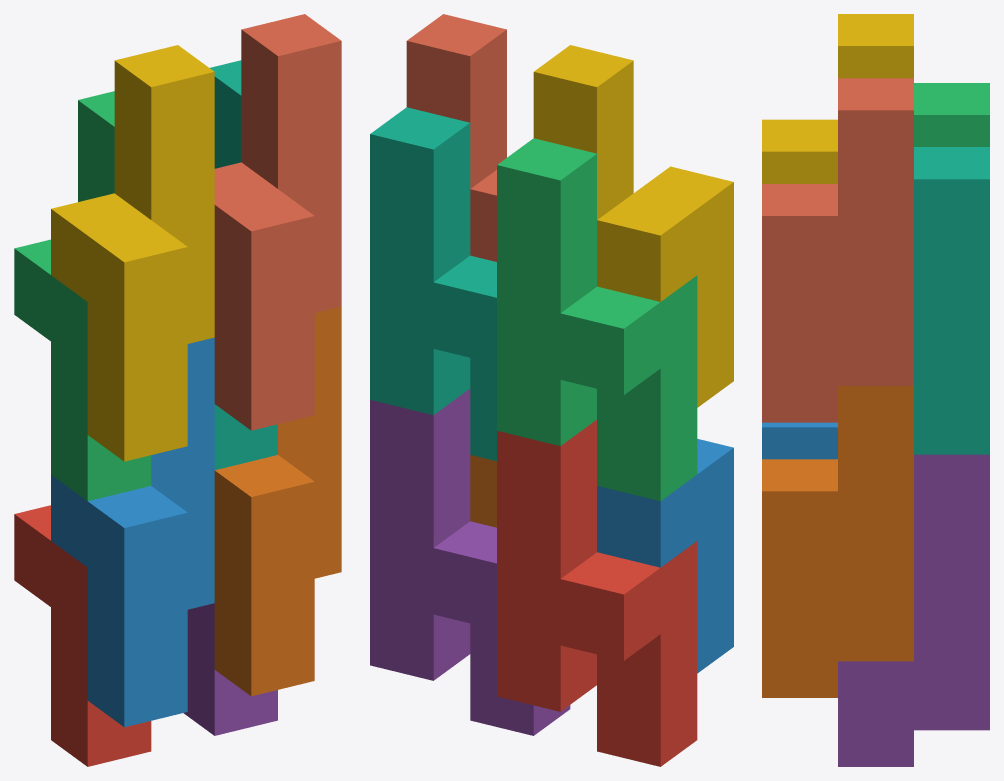
Rendered from tiling.obj.
3 views of the same model, side by side, from view 1: azimuth 30°, elevation 25°; view 2: azimuth 150°, elevation 25°; view 3: azimuth 270°, elevation 25° (orthographic). The views are drawn at different scales.
Parts seen in each view (by area): view 1: copy_1_domain_4, copy_1_domain_8, copy_1_domain_2, copy_1_domain_6, copy_1_domain_3, copy_1_domain_1, copy_1_domain_5, copy_1_domain_7; view 2: copy_1_domain_3, copy_1_domain_1, copy_1_domain_7, copy_1_domain_5, copy_1_domain_4, copy_1_domain_2, copy_1_domain_8, copy_1_domain_6; view 3: copy_1_domain_8, copy_1_domain_6, copy_1_domain_5, copy_1_domain_7, copy_1_domain_4, copy_1_domain_3, copy_1_domain_2.
Part boxes in pixels (x1,y1,x2,y2): copy_1_domain_4: [51, 45, 214, 461]; copy_1_domain_8: [214, 14, 341, 430]; copy_1_domain_2: [51, 337, 214, 727]; copy_1_domain_6: [214, 306, 341, 696]; copy_1_domain_3: [14, 91, 151, 500]; copy_1_domain_1: [14, 505, 151, 766]; copy_1_domain_5: [183, 603, 277, 735]; copy_1_domain_7: [210, 60, 277, 469]; copy_1_domain_3: [497, 138, 697, 501]; copy_1_domain_1: [497, 420, 697, 766]; copy_1_domain_7: [370, 107, 496, 461]; copy_1_domain_5: [370, 388, 570, 735]; copy_1_domain_4: [533, 45, 733, 407]; copy_1_domain_2: [597, 439, 733, 673]; copy_1_domain_8: [406, 14, 506, 261]; copy_1_domain_6: [470, 455, 496, 527]; copy_1_domain_8: [762, 78, 913, 422]; copy_1_domain_6: [762, 386, 913, 697]; copy_1_domain_5: [838, 454, 989, 766]; copy_1_domain_7: [914, 147, 989, 454]; copy_1_domain_4: [762, 14, 913, 183]; copy_1_domain_3: [914, 83, 989, 146]; copy_1_domain_2: [762, 422, 837, 459].
Bounding box in the file's own units: 4 × 10 × 3.
